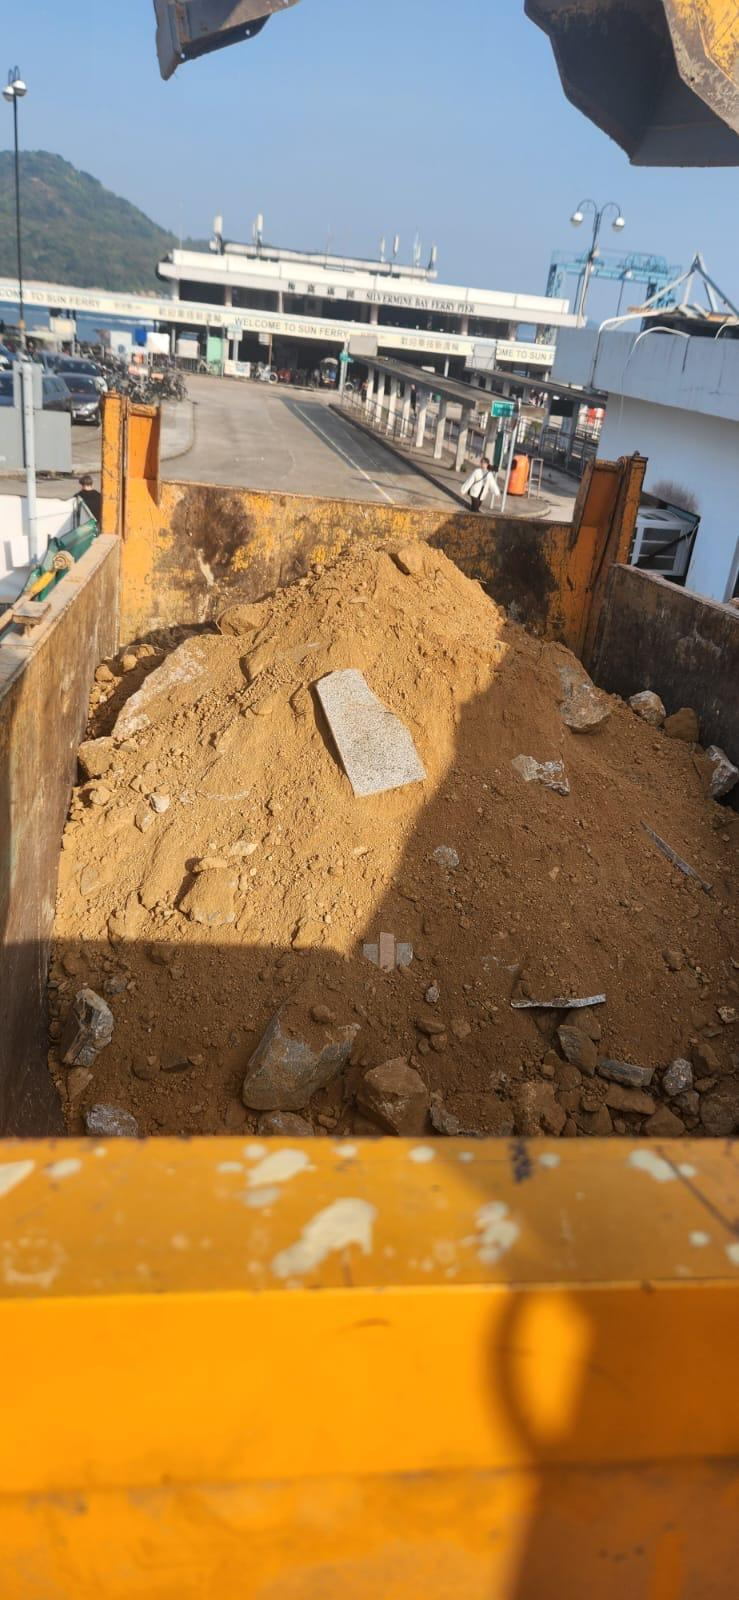dirt: (45, 532, 737, 1138)
stone: (313, 666, 426, 797), (240, 1001, 361, 1111), (354, 1056, 430, 1135), (58, 986, 114, 1068), (627, 688, 665, 726)
